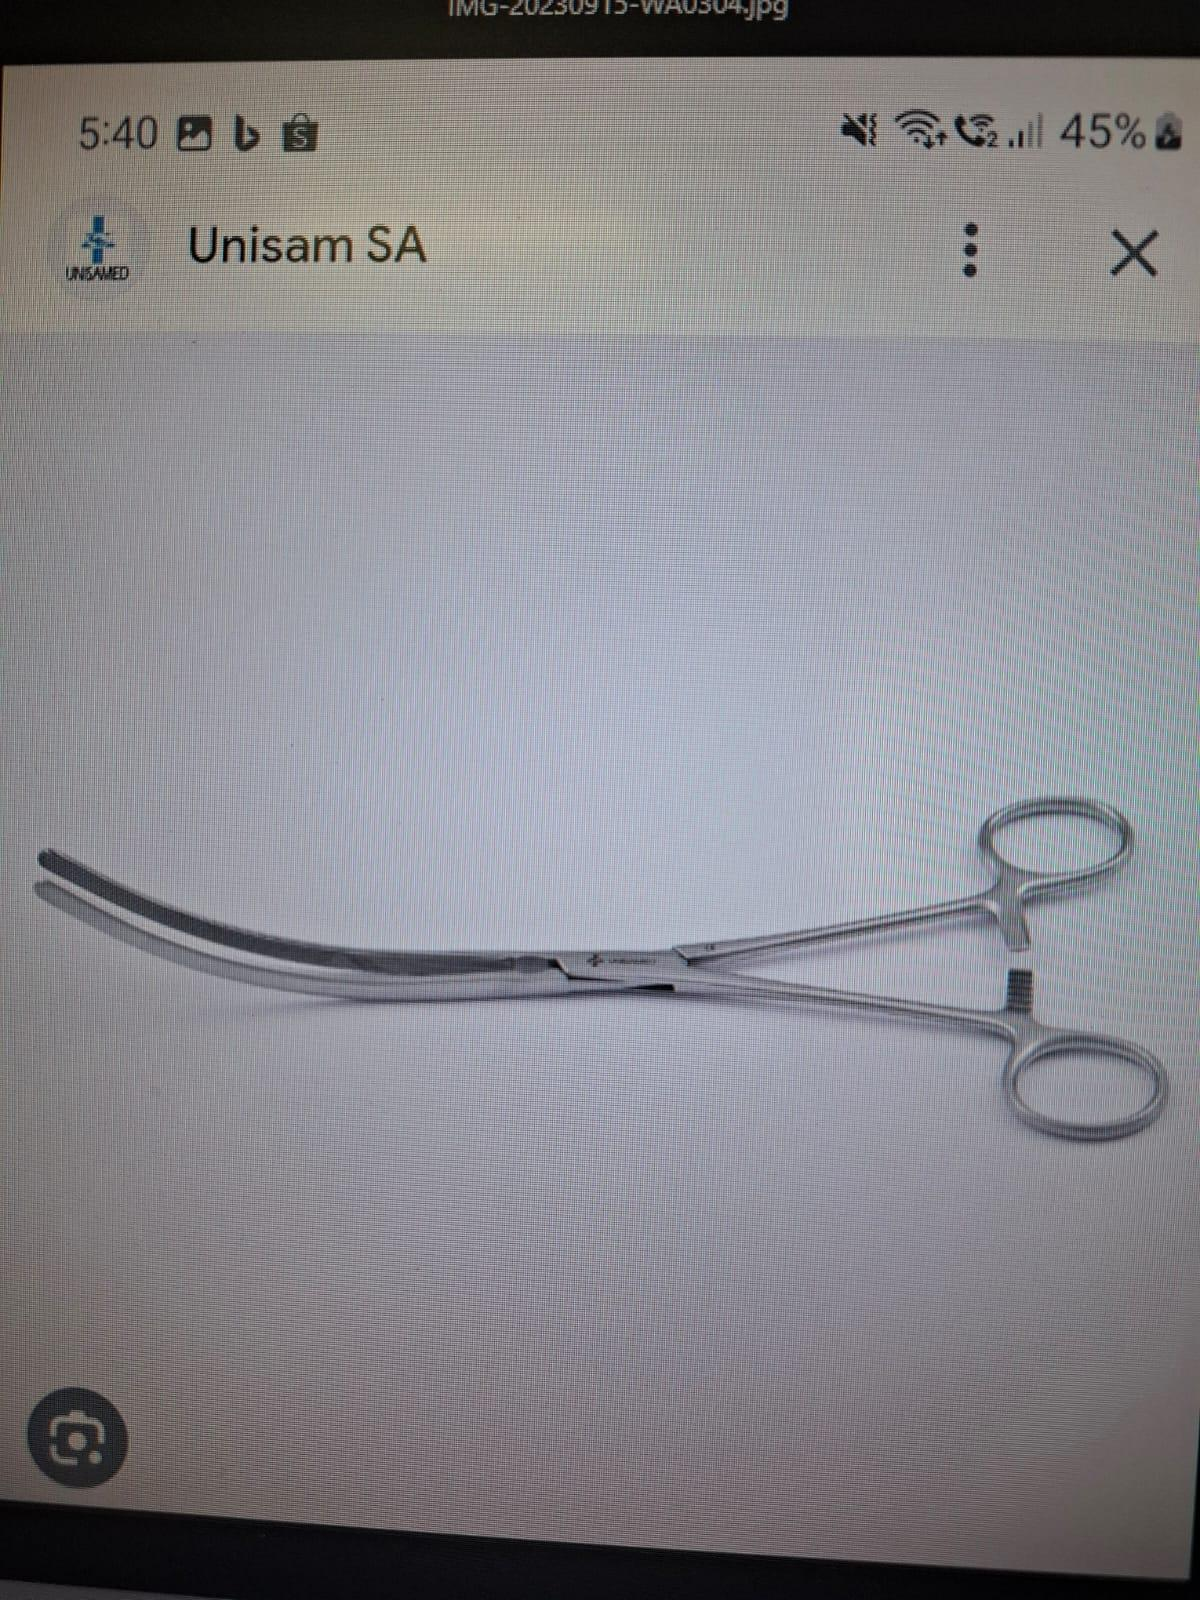Doyel Instestinal Forceps: (10, 760, 1192, 1155)
